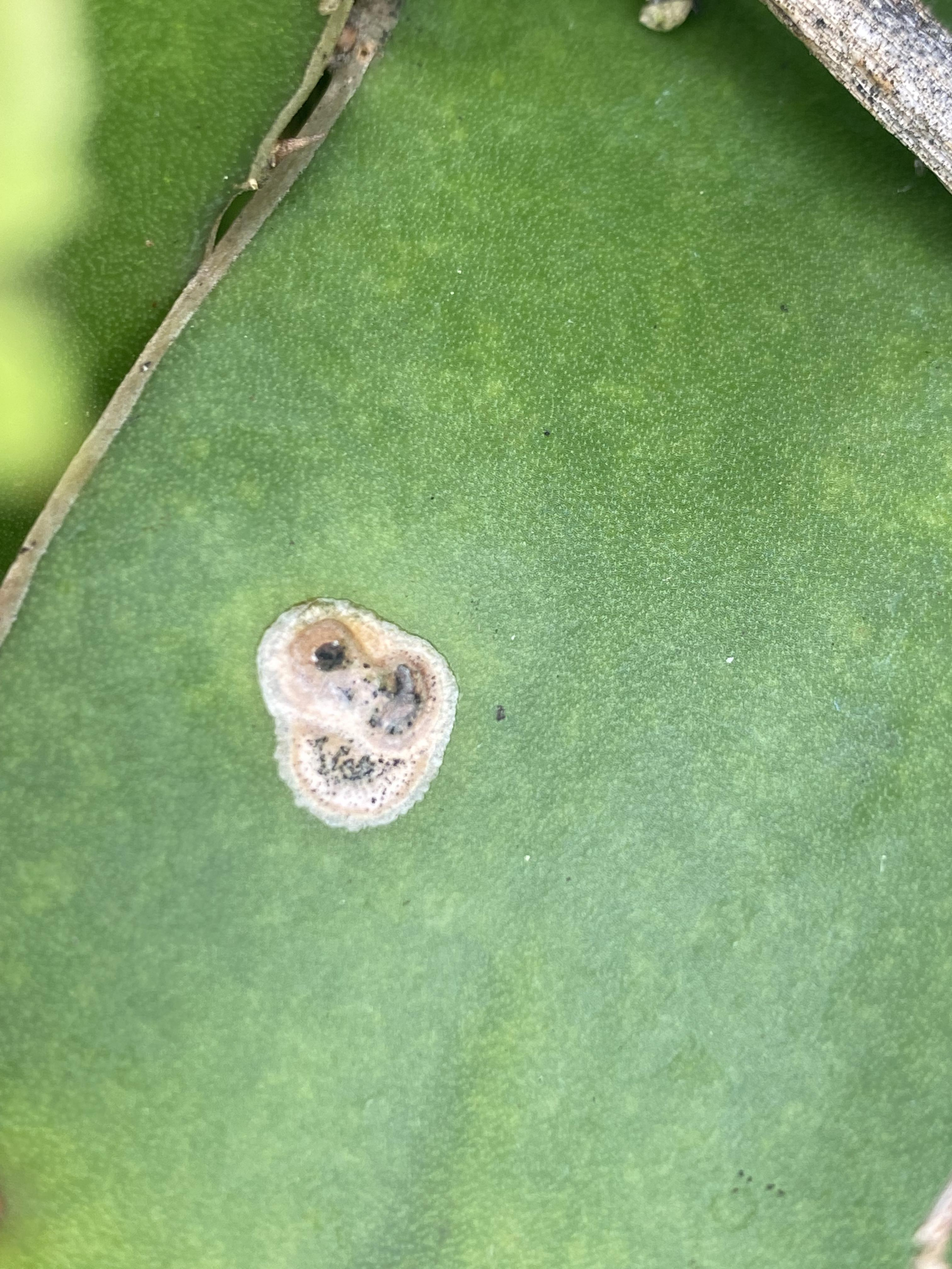stemcanker: (252, 592, 465, 834)
